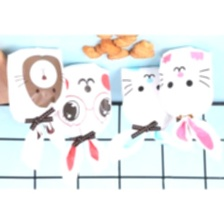snack: (101, 61, 197, 169), (1, 42, 72, 175), (48, 57, 117, 189), (150, 42, 223, 165)
